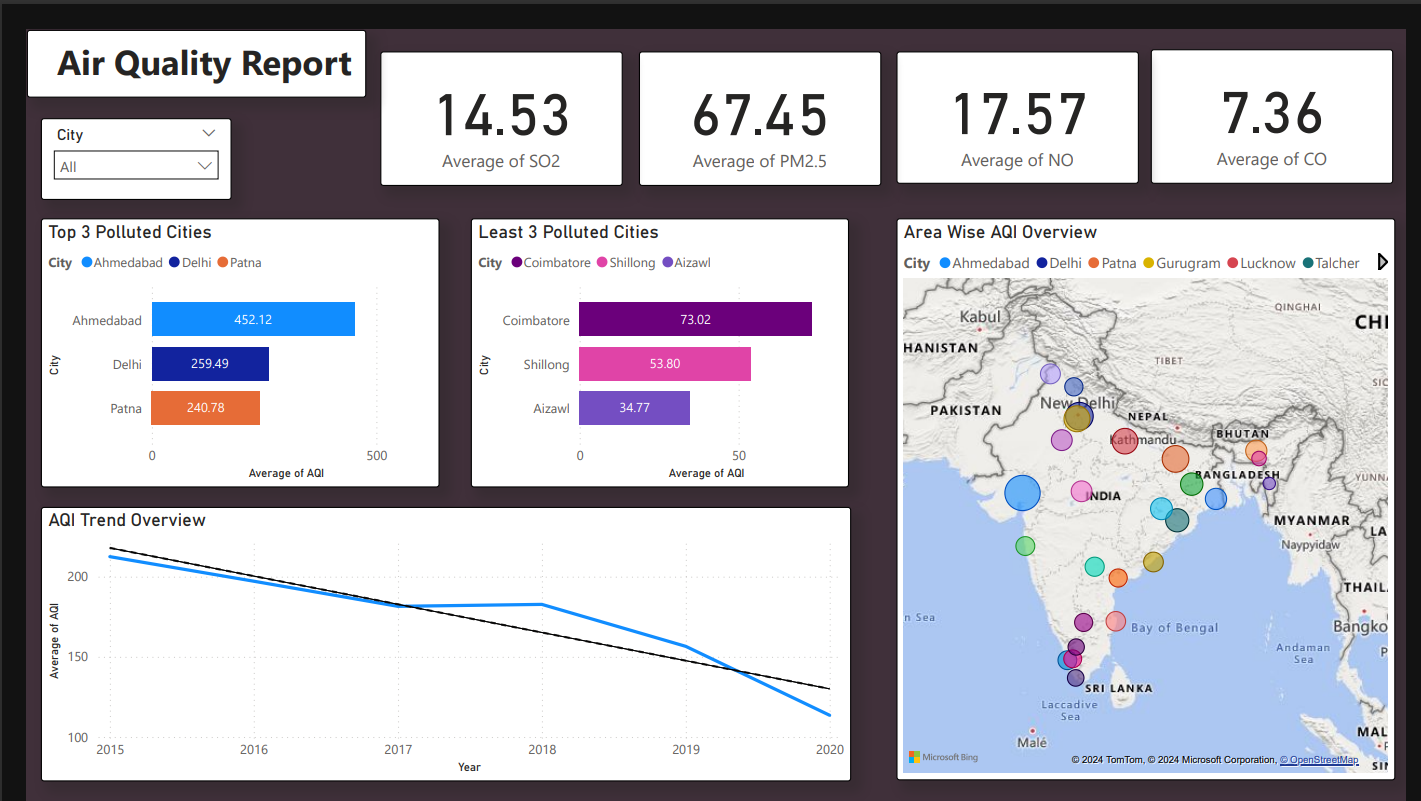

The dashboard page shown, as its layout file describes it:
{"tool":"powerbi","page":{"name":"Page 2","canvas":[1280,720],"ordinal":1},"visuals":[{"type":"lineChart","title":"AQI Trend Overview","fields":{"Category":["city_day.Date.Variation.Date Hierarchy.Year","city_day.Date.Variation.Date Hierarchy.Quarter","city_day.Date.Variation.Date Hierarchy.Month","city_day.Date.Variation.Date Hierarchy.Day"],"Y":["Avg(city_day.AQI)"]},"box":[12.5,442.5,752.5,255],"z":0},{"type":"slicer","fields":{"Values":["city_day.City"]},"box":[13.3,81.7,176.7,76.7],"z":1000},{"type":"card","title":"Top 3 Polluted Cities","fields":{"Values":["Avg(city_day.CO)"]},"box":[1043.3,18.3,225,125],"z":2000},{"type":"barChart","title":"Least 3 Polluted Cities","fields":{"Category":["city_day.City"],"Y":["Avg(city_day.AQI)"],"Series":["city_day.City"]},"box":[411.7,175,351.7,250],"z":3000},{"type":"card","fields":{"Values":["Avg(city_day.NO)"]},"box":[806.7,20,225,123.3],"z":4000},{"type":"card","fields":{"Values":["Avg(city_day.PM2.5)"]},"box":[568.3,20,225,125],"z":5000},{"type":"card","fields":{"Values":["Avg(city_day.SO2)"]},"box":[328.3,20,225,125],"z":6000},{"type":"barChart","title":"Top 3 Polluted Cities","fields":{"Category":["city_day.City"],"Y":["Avg(city_day.AQI)"],"Series":["city_day.City"]},"box":[13.3,175,370,250],"z":7000},{"type":"map","title":"Area Wise AQI Overview ","fields":{"Category":["city_day.City"],"Size":["Avg(city_day.AQI)"],"Series":["city_day.City"]},"box":[806.7,175,463.3,521.7],"z":8000},{"type":"textbox","box":[0,0,315,63.3],"z":9000}]}

Visuals, with their boxes in screenshot pixels (x1, y1, x2, y2), scaled from the page's 1280x720 canvas onto the 1421x801 screenshot:
"AQI Trend Overview" lineChart: l=14, t=492, r=849, b=776
slicer - city_day.City: l=15, t=91, r=211, b=176
"Top 3 Polluted Cities" card: l=1158, t=20, r=1408, b=159
"Least 3 Polluted Cities" barChart: l=457, t=195, r=847, b=473
card - Avg(city_day.NO): l=896, t=22, r=1145, b=159
card - Avg(city_day.PM2.5): l=631, t=22, r=881, b=161
card - Avg(city_day.SO2): l=364, t=22, r=614, b=161
"Top 3 Polluted Cities" barChart: l=15, t=195, r=426, b=473
"Area Wise AQI Overview " map: l=896, t=195, r=1410, b=775
textbox: l=0, t=0, r=350, b=70
